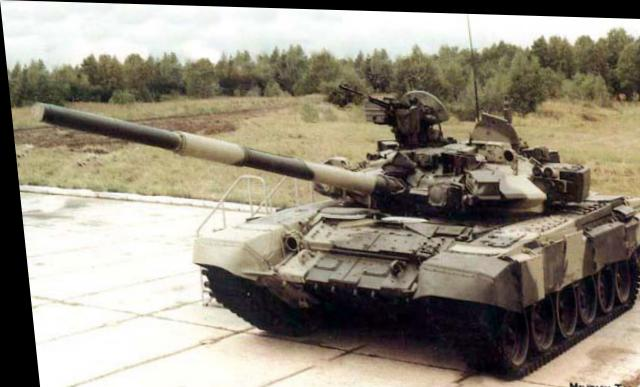tank: (179, 85, 640, 353)
